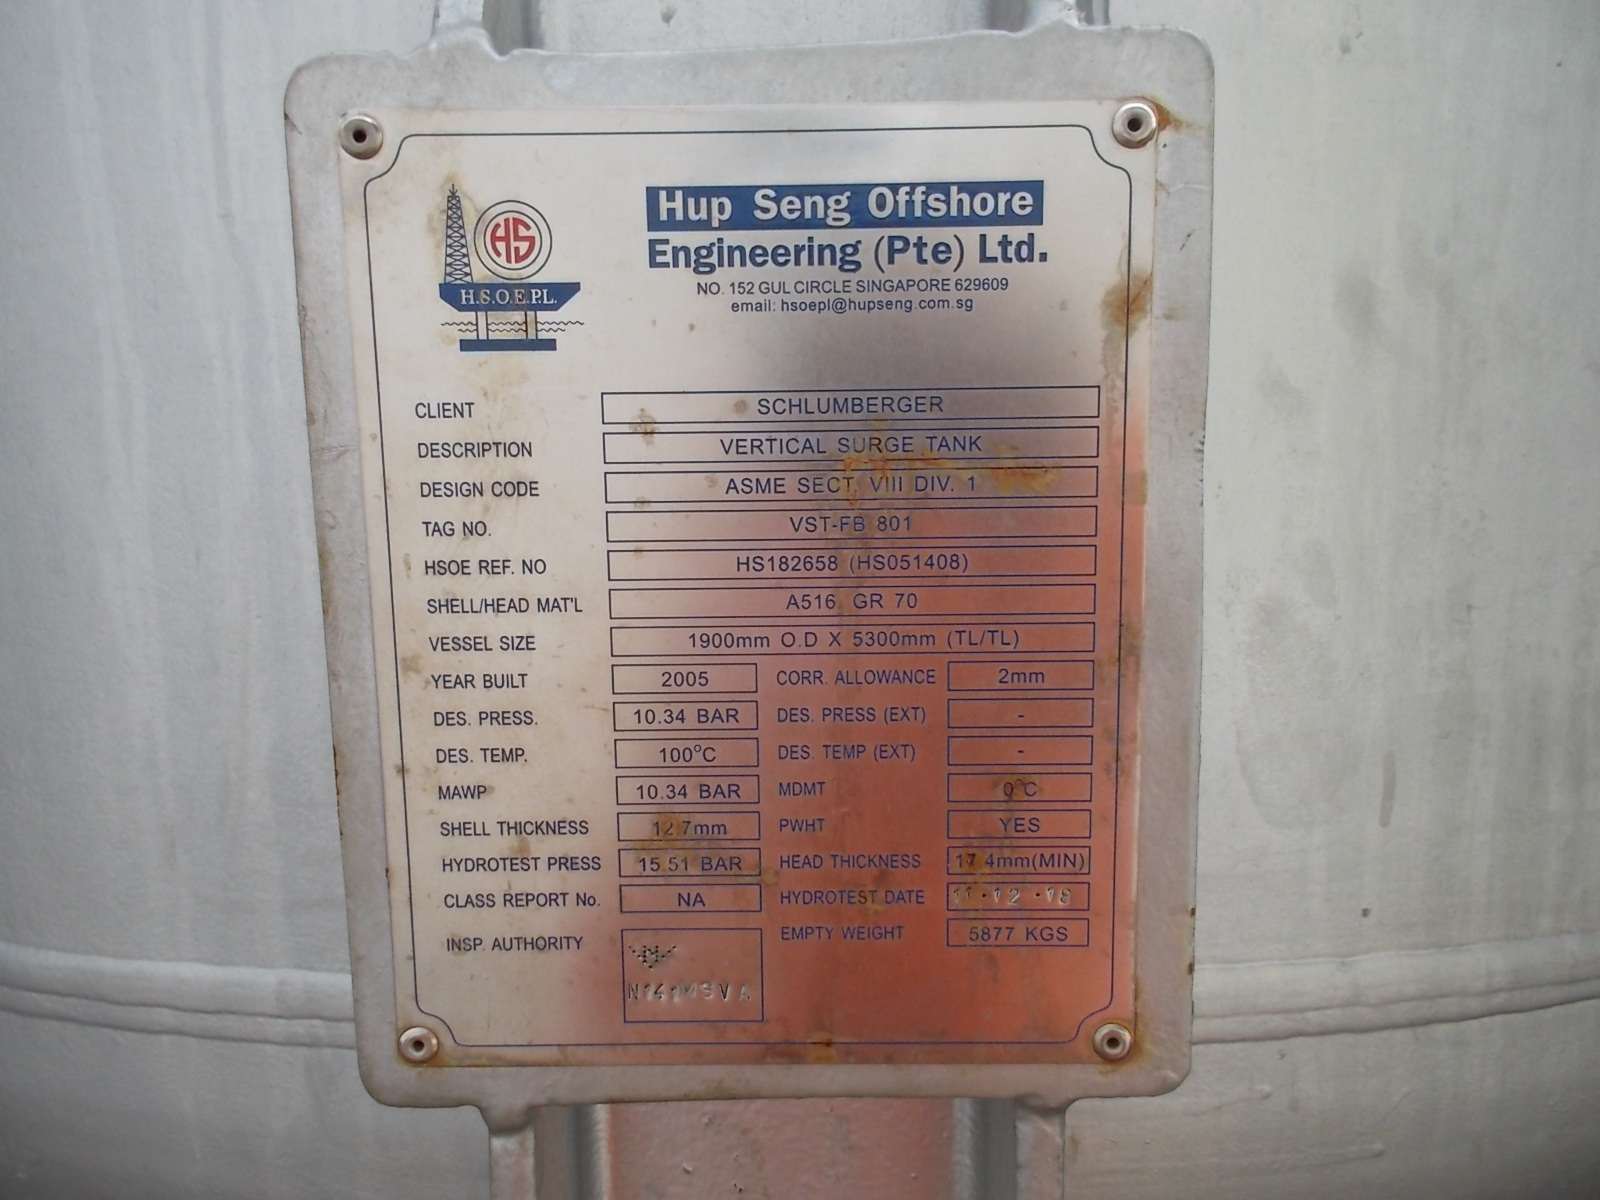character: (736, 978, 753, 1006), (695, 978, 717, 1001), (718, 978, 734, 1006), (653, 978, 668, 1005), (678, 978, 695, 1001), (626, 981, 643, 1005), (1056, 887, 1076, 906), (1005, 885, 1022, 908), (1042, 884, 1058, 904), (991, 885, 1005, 908), (668, 983, 679, 1008), (643, 978, 653, 1005), (961, 884, 974, 903), (951, 885, 961, 903)
